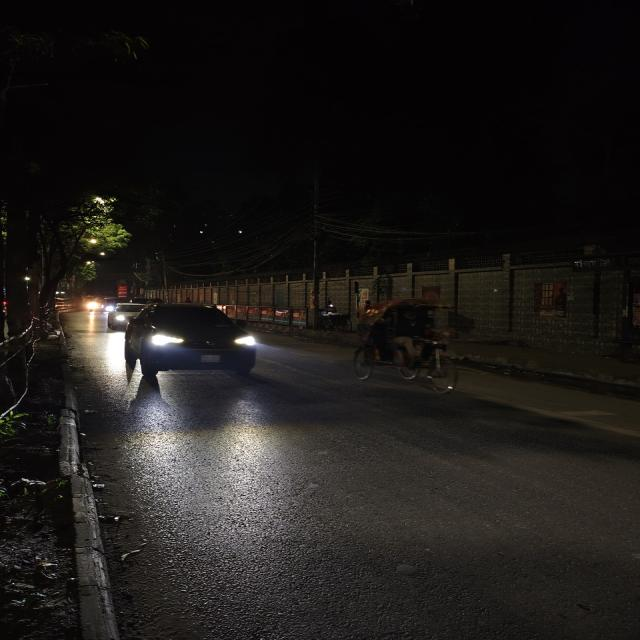car: (116, 300, 274, 392), (107, 300, 145, 330)
rickshaw: (342, 289, 480, 409)
